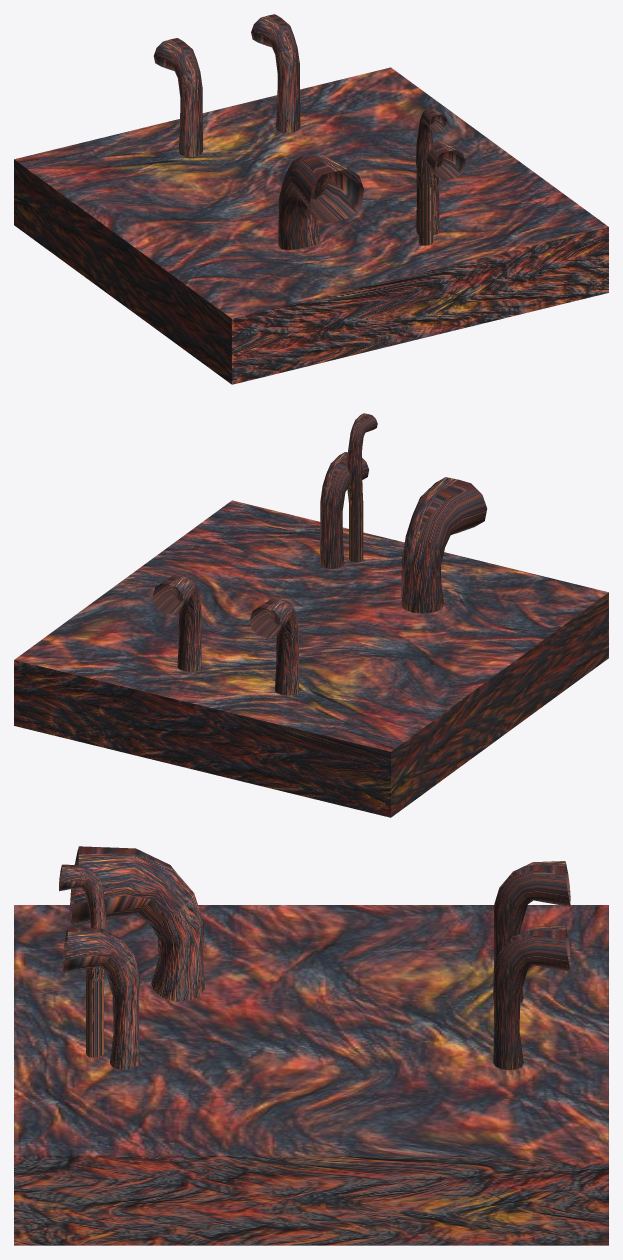
File: lavaPool.gltf
3 views of the same model, one above another, from view 1: azimuth 30°, elevation 25°; view 2: azimuth 150°, elevation 25°; view 3: azimuth 270°, elevation 25° (orthographic). The views are drawn at different scales.
Parts seen in each view (by area): view 1: Lava Pool; view 2: Lava Pool; view 3: Lava Pool.
Boxes of the visible parts, left/top/right/bottom form: Lava Pool: left=14, top=14, right=608, bottom=384; Lava Pool: left=14, top=413, right=608, bottom=817; Lava Pool: left=14, top=846, right=608, bottom=1245.
Bounding box in the file's own units: 62.84 × 32.29 × 62.98.
Materials: 1 (1 with a texture image).
